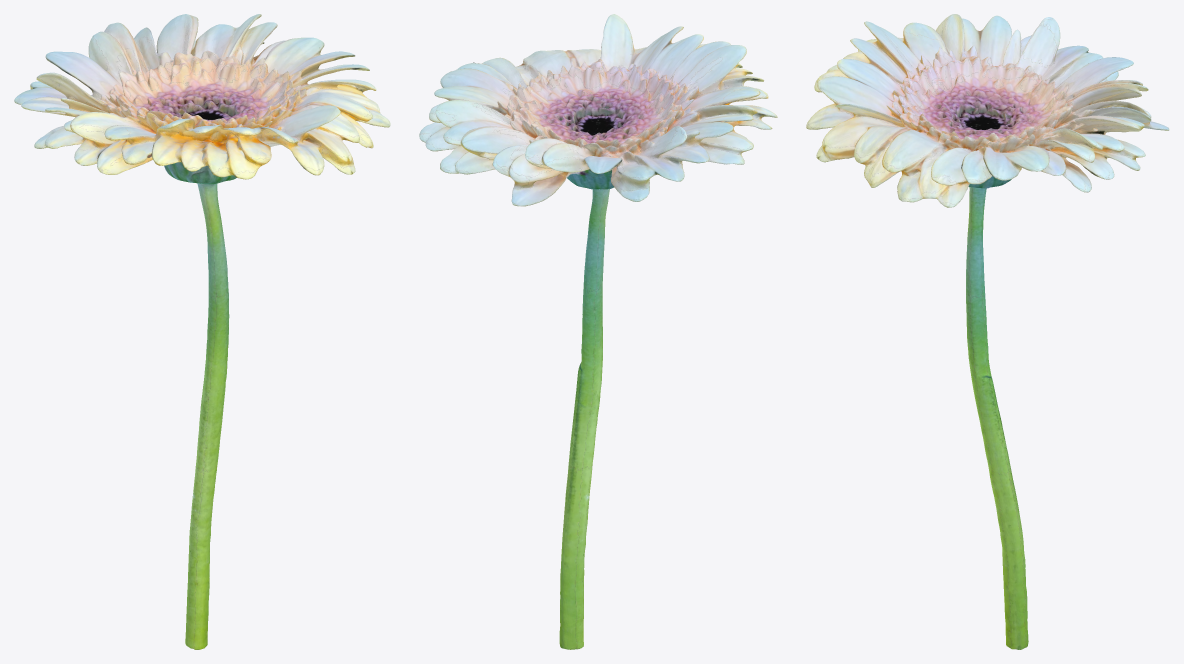
The model's file is gerbera.glb.
3 renders of one model, left to right at view 1: azimuth 30°, elevation 25°; view 2: azimuth 150°, elevation 25°; view 3: azimuth 270°, elevation 25°, orthographic. The views are drawn at different scales.
Parts seen in each view (by area): view 1: Object_2; view 2: Object_2; view 3: Object_2.
Part boxes in pixels (left/top/right/bottom): Object_2: left=14, top=14, right=390, bottom=649; Object_2: left=419, top=14, right=777, bottom=649; Object_2: left=806, top=14, right=1169, bottom=649.
Bounding box in the file's own units: 11.57 × 20.89 × 11.92.
Materials: 1 (1 with a texture image).
